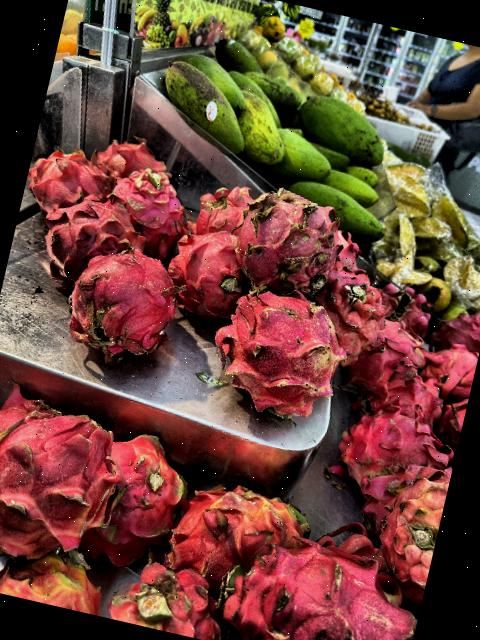buah-naga-belum-matang: (372, 458, 451, 590), (0, 537, 112, 615)
buah-naga-matang: (209, 513, 430, 640), (0, 392, 122, 566), (154, 461, 310, 588), (211, 282, 355, 418), (75, 424, 195, 576), (222, 176, 350, 302), (63, 239, 186, 370), (32, 186, 156, 286), (104, 547, 237, 640), (157, 220, 257, 324), (337, 396, 454, 479), (309, 262, 392, 364), (106, 162, 192, 256), (344, 305, 425, 400), (21, 142, 112, 220), (358, 372, 446, 428), (186, 173, 252, 236), (87, 126, 166, 178), (418, 340, 478, 400), (426, 302, 480, 354), (436, 390, 468, 440)
